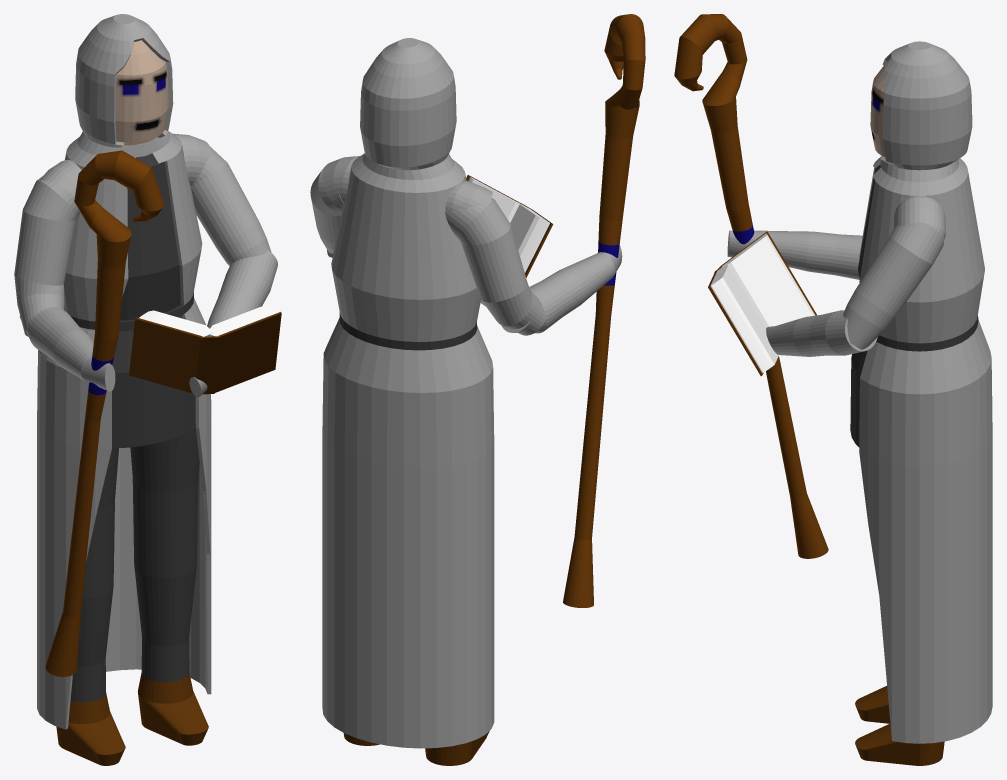
File: Маг0.fbx
3 renders of one model, left to right at view 1: azimuth 30°, elevation 25°; view 2: azimuth 150°, elevation 25°; view 3: azimuth 270°, elevation 25°, orthographic. The views are drawn at different scales.
Visible parts, largest first — view 1: Цилиндр.032, Цилиндр.025, Цилиндр.028, Цилиндр.005, Цилиндр.018, Цилиндр.023, Цилиндр.020, Цилиндр.021, Куб.009, Цилиндр.024, Куб.010, Цилиндр.022 (+6 smaller); view 2: Цилиндр.032, Цилиндр.028, Цилиндр.023, Цилиндр.024, Цилиндр.021, Куб.012, Цилиндр.027, Цилиндр.020, Цилиндр.026; view 3: Цилиндр.032, Цилиндр.028, Цилиндр.021, Куб.012, Цилиндр.024, Цилиндр.022, Куб.013, Цилиндр.025, Цилиндр.005, Цилиндр.027, Цилиндр.020.
Boxes of the visible parts, <box> form: Цилиндр.032: <box>37,14,211,729</box>; Цилиндр.025: <box>112,40,195,448</box>; Цилиндр.028: <box>45,150,164,676</box>; Цилиндр.005: <box>134,566,208,745</box>; Цилиндр.018: <box>130,428,199,577</box>; Цилиндр.023: <box>14,176,80,336</box>; Цилиндр.020: <box>56,586,125,765</box>; Цилиндр.021: <box>190,146,271,266</box>; Куб.009: <box>129,317,202,393</box>; Цилиндр.024: <box>19,307,115,391</box>; Куб.010: <box>214,312,281,392</box>; Цилиндр.022: <box>189,250,277,397</box>; Цилиндр.032: <box>322,38,494,748</box>; Цилиндр.028: <box>563,14,645,607</box>; Цилиндр.023: <box>445,197,546,335</box>; Цилиндр.024: <box>501,245,622,333</box>; Цилиндр.021: <box>310,164,343,253</box>; Куб.012: <box>480,204,549,306</box>; Цилиндр.027: <box>322,156,359,210</box>; Цилиндр.020: <box>425,731,489,765</box>; Цилиндр.026: <box>445,180,492,214</box>; Цилиндр.032: <box>859,41,992,743</box>; Цилиндр.028: <box>674,14,828,558</box>; Цилиндр.021: <box>843,222,945,349</box>; Куб.012: <box>722,233,815,327</box>; Цилиндр.024: <box>727,230,862,279</box>; Цилиндр.022: <box>766,310,877,356</box>; Куб.013: <box>710,265,778,373</box>; Цилиндр.025: <box>850,58,890,447</box>; Цилиндр.005: <box>855,723,944,765</box>; Цилиндр.027: <box>894,196,945,238</box>; Цилиндр.020: <box>855,686,890,723</box>.
Bounding box in the file's own units: 43.28 × 114 × 47.51.
